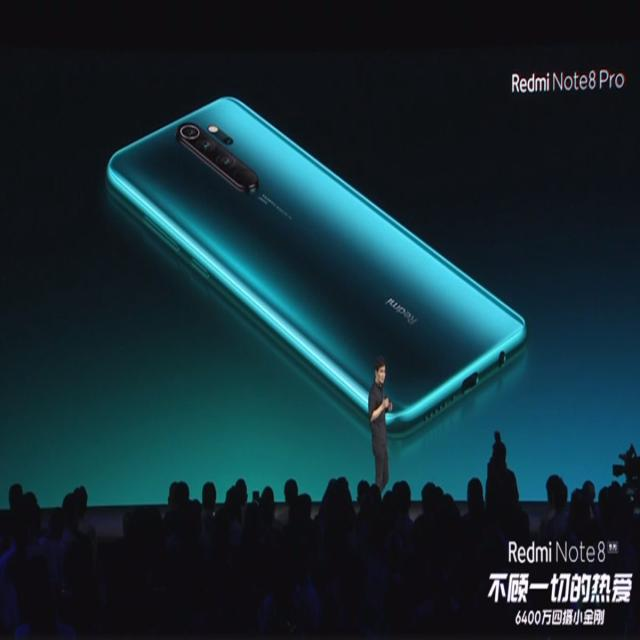Red Mi Note 8 Pro: (106, 99, 528, 425)
